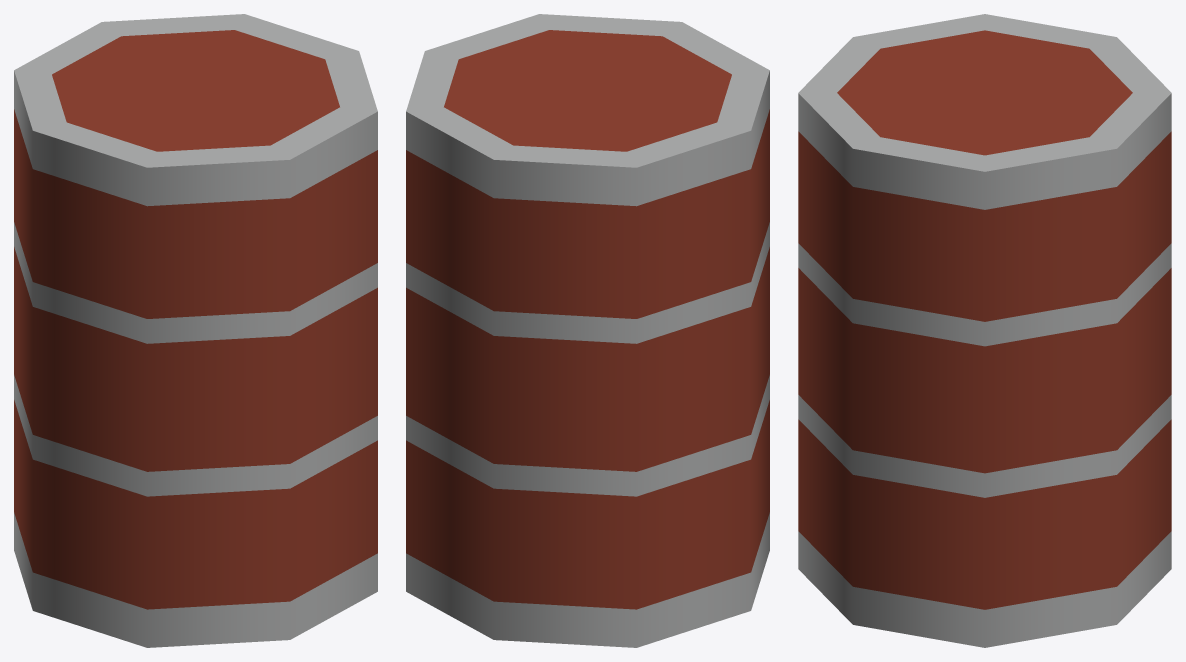
The model's file is barrel2.FBX.
The picture shows the model from 3 angles, left to right: view 1: azimuth 30°, elevation 25°; view 2: azimuth 150°, elevation 25°; view 3: azimuth 270°, elevation 25°; orthographic projection.
Parts seen in each view (by area): view 1: barrel2; view 2: barrel2; view 3: barrel2.
Part boxes in pixels (box(x1,y1,x2,y2)): barrel2: box(14, 14, 377, 647); barrel2: box(406, 14, 769, 647); barrel2: box(798, 14, 1171, 647).
Bounding box in the file's own units: 2.09 × 2.94 × 2.09.
